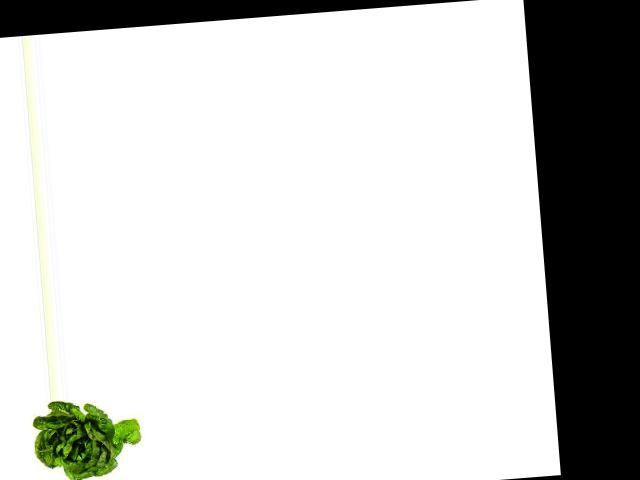lettuce: (29, 397, 148, 480)
